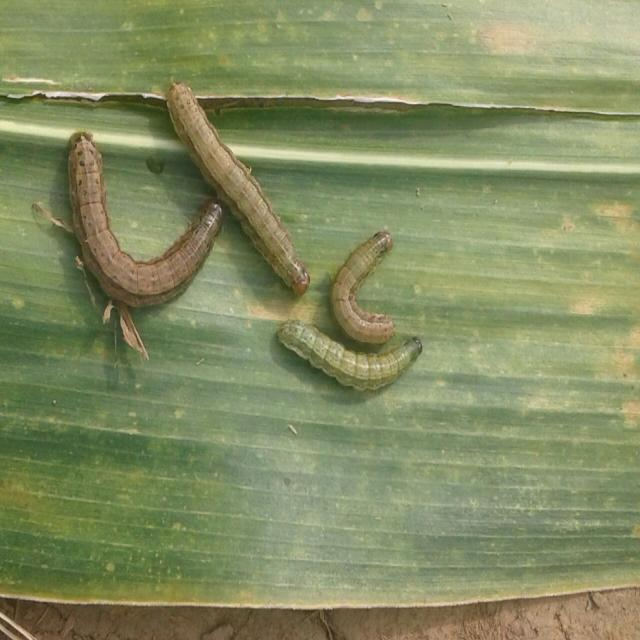yellow-stem-borer-larva: (256, 194, 432, 419), (46, 122, 230, 328)
